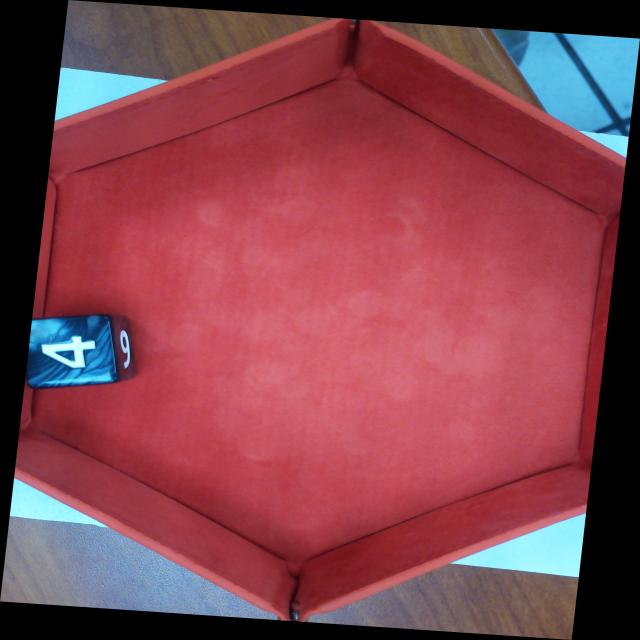dice: (29, 316, 112, 381)
